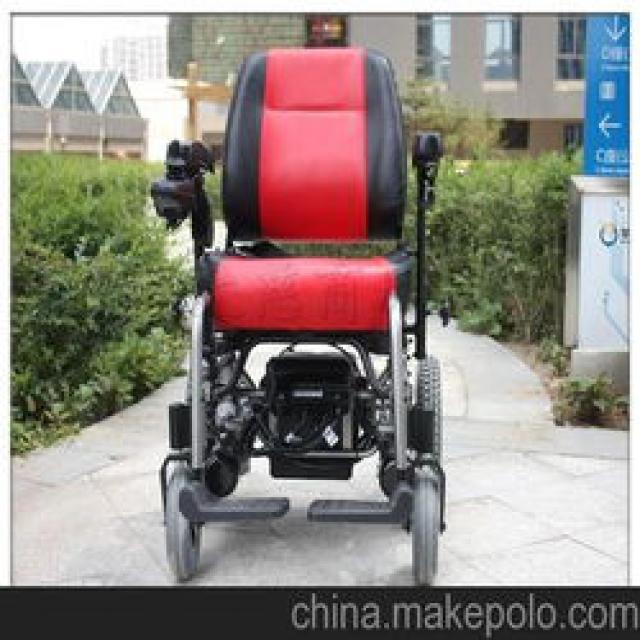wheelchairs: (150, 44, 455, 584)
